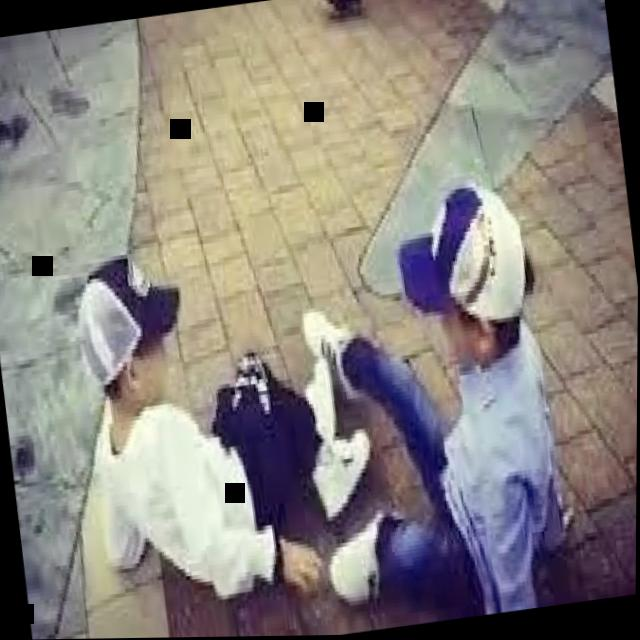Fall-Detected: (53, 196, 399, 639)
